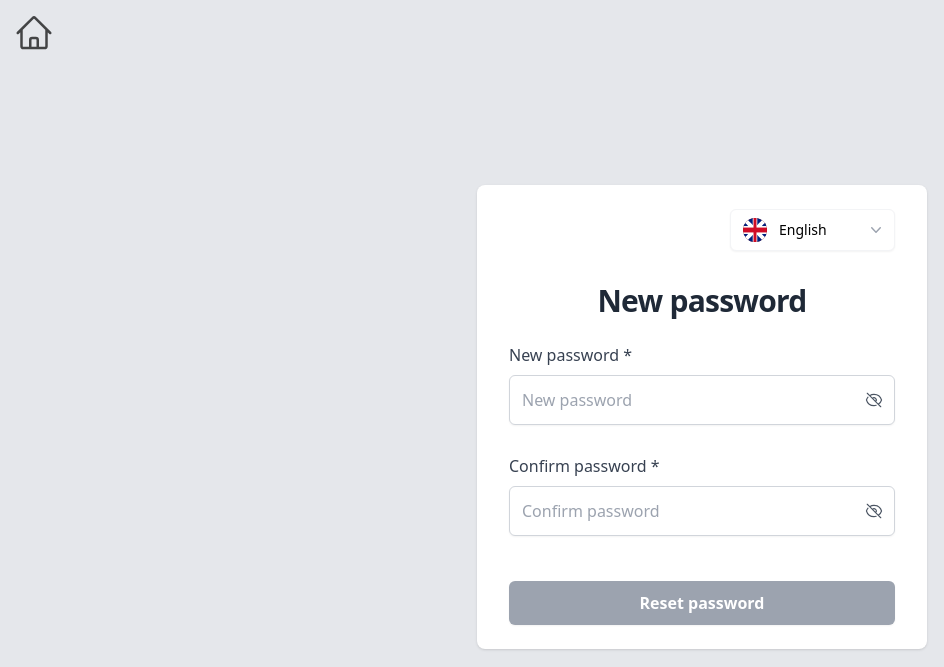
Test case: New password page › Should change language after select different language from the language selector
Click the button with test id "language-selector" at (813, 230), box [730, 209, 895, 251]
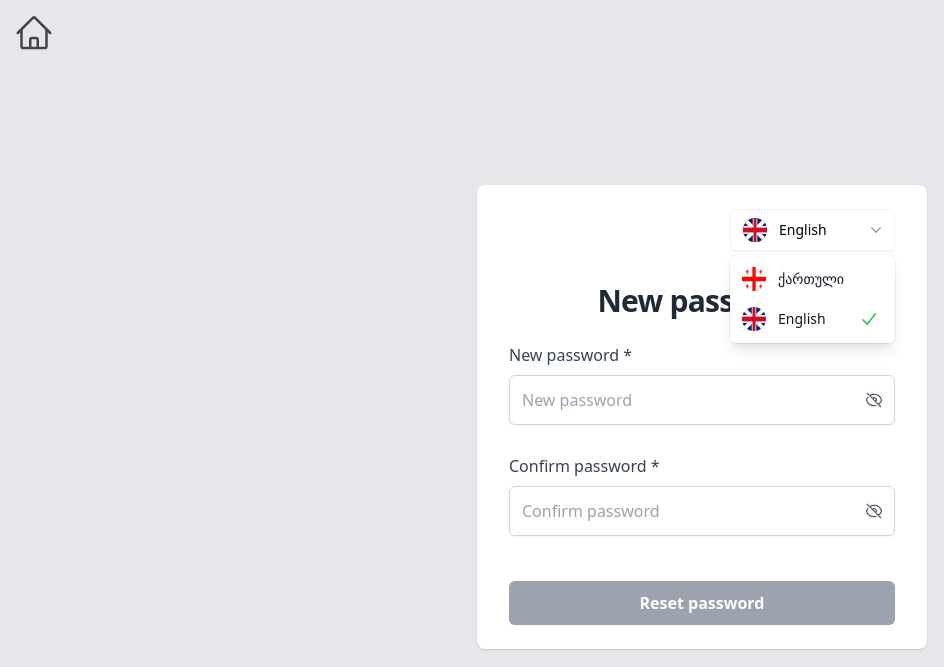
Click the option with test id "ka" at (793, 279), box [742, 267, 844, 291]
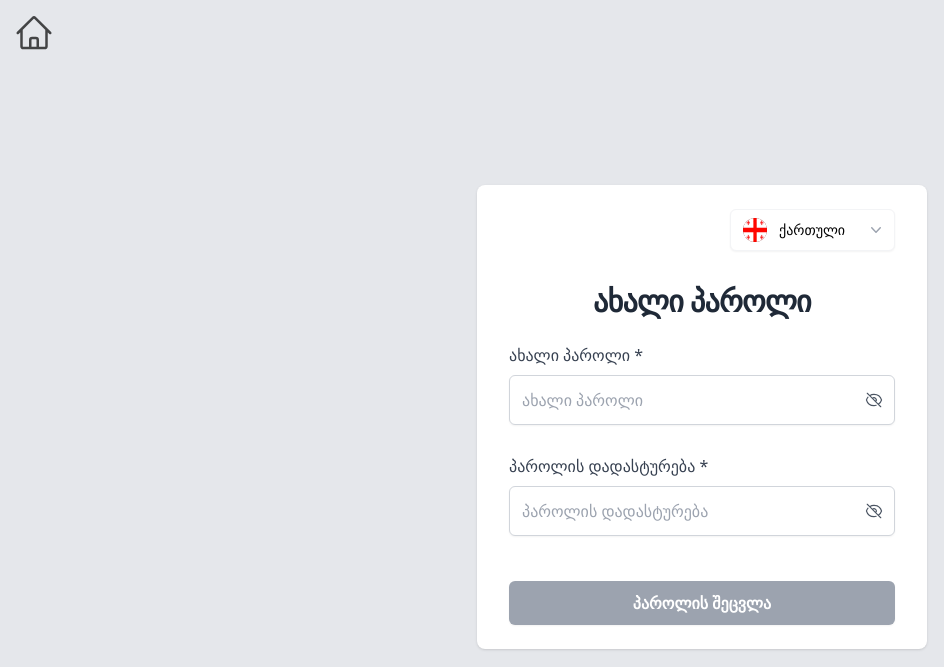
Expected: the label with test id "password-label" shows "ახალი პაროლი", [509, 344, 643, 366]
Expected: the label with test id "passwordConfirmation-label" shows "პაროლის დადასტურება", [509, 455, 708, 477]
Expected: the heading with test id "auth-page-title" reads "ახალი პაროლი", [593, 280, 811, 321]
